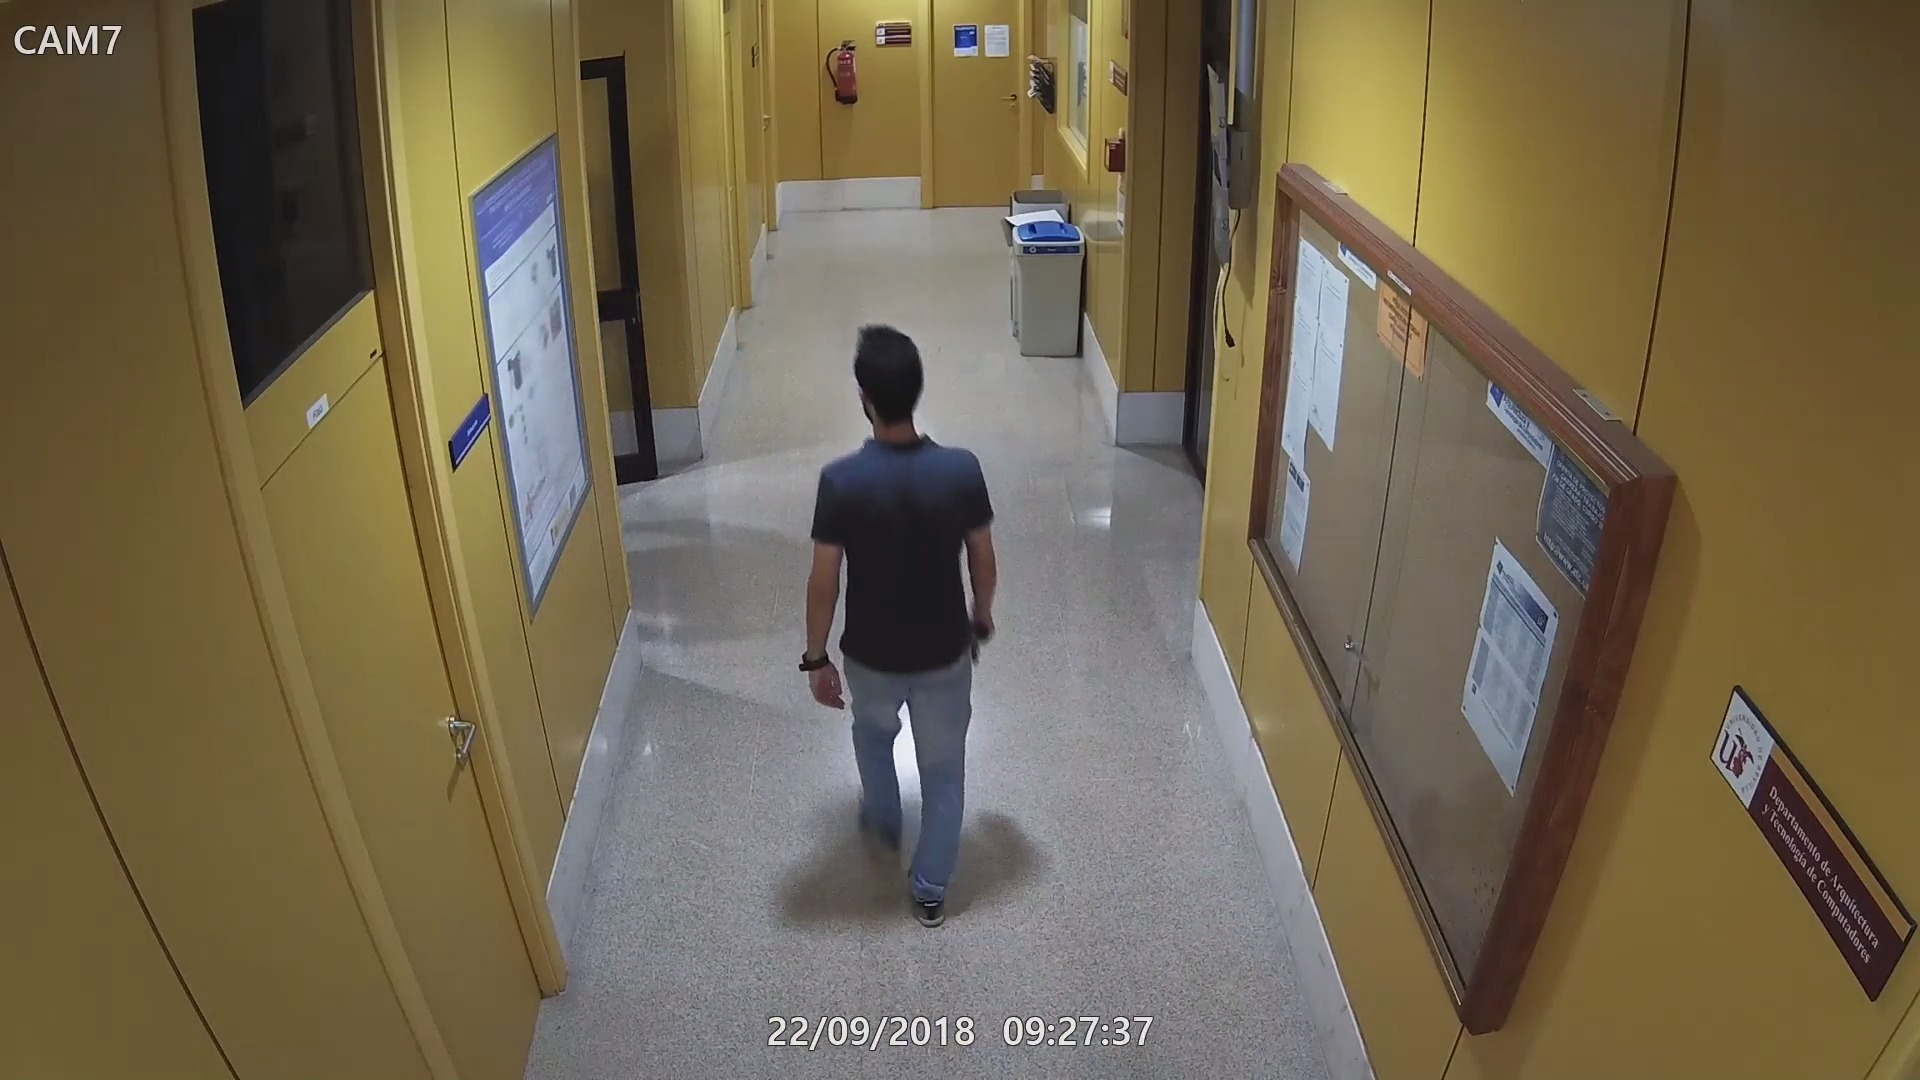Handgun: (967, 617, 1000, 666)
